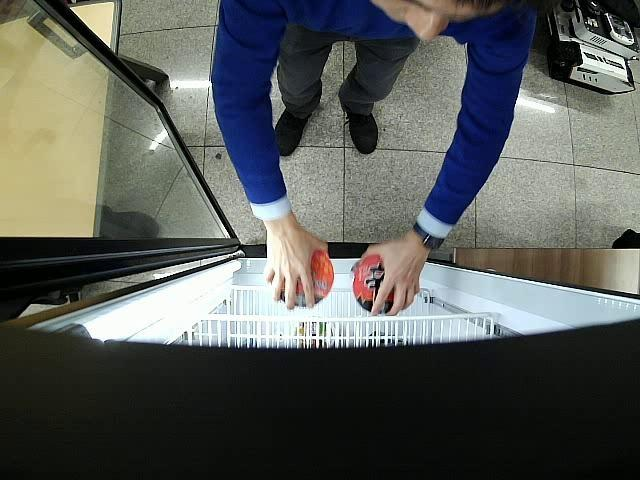01_ShinRamen_L: (270, 252, 333, 304), (353, 254, 394, 314)
